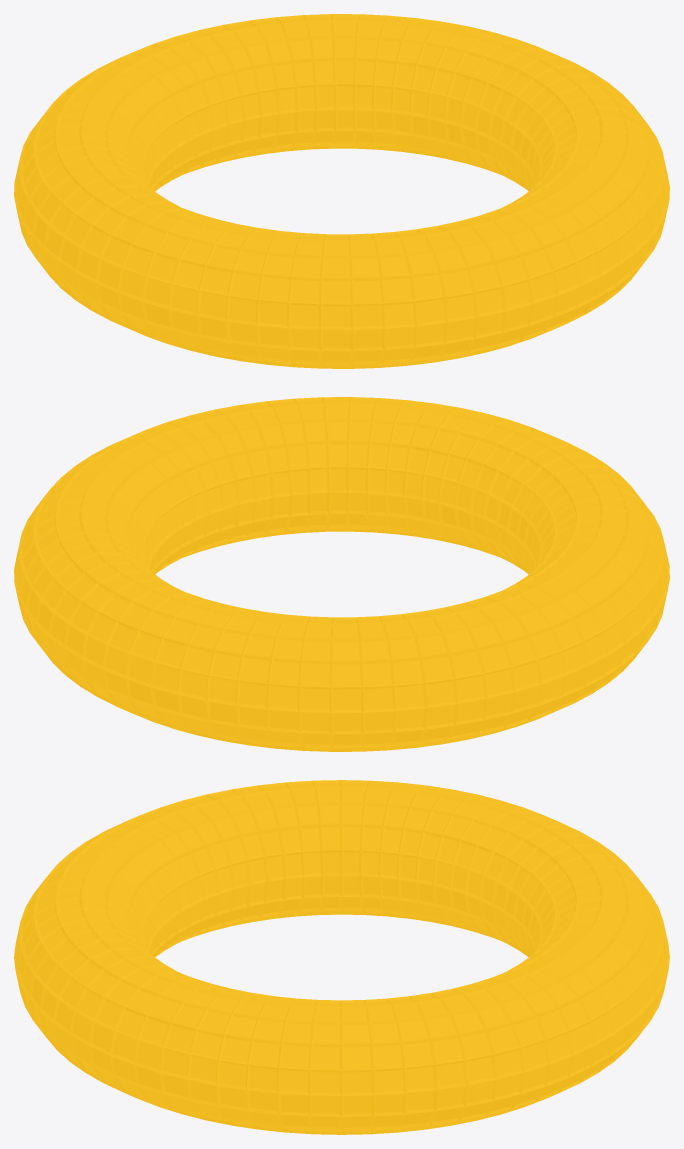
The model's file is tech_ring.glb.
The picture shows the model from 3 angles, top to bottom: view 1: azimuth 30°, elevation 25°; view 2: azimuth 150°, elevation 25°; view 3: azimuth 270°, elevation 25°; orthographic projection.
Parts seen in each view (by area): view 1: TechRing; view 2: TechRing; view 3: TechRing.
Boxes of the visible parts, x1,y1,x2,y2 form: TechRing: (14,14,669,368); TechRing: (14,397,669,751); TechRing: (14,780,669,1134).
Size of the model in its own units: 15.1 by 3.1 by 15.1.
